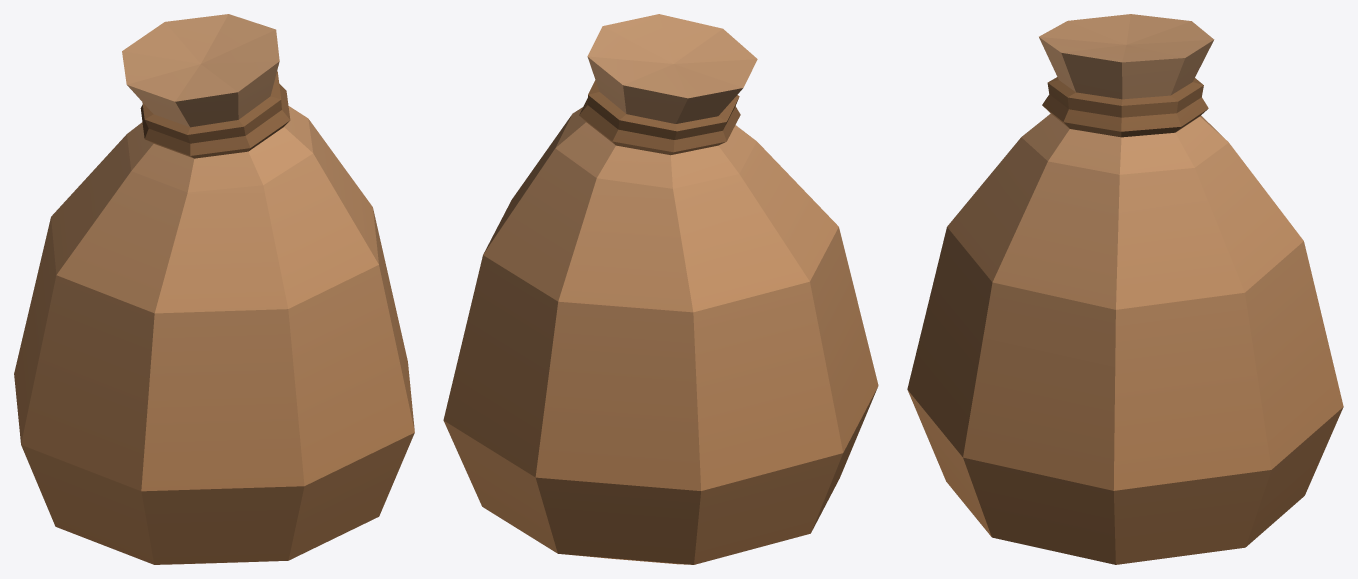
File: bag-grain.glb
3 views of the same model, side by side, from view 1: azimuth 30°, elevation 25°; view 2: azimuth 150°, elevation 25°; view 3: azimuth 270°, elevation 25° (orthographic).
Visible parts, largest first — view 1: bag grain; view 2: bag grain; view 3: bag grain.
Part boxes in pixels (x1=…): bag grain: x1=14, y1=14, x2=414, y2=564; bag grain: x1=443, y1=14, x2=878, y2=564; bag grain: x1=907, y1=14, x2=1343, y2=564.
Size of the model in its own units: 0.6738 by 0.8347 by 0.669.
Materials: 1 (1 with a texture image).
